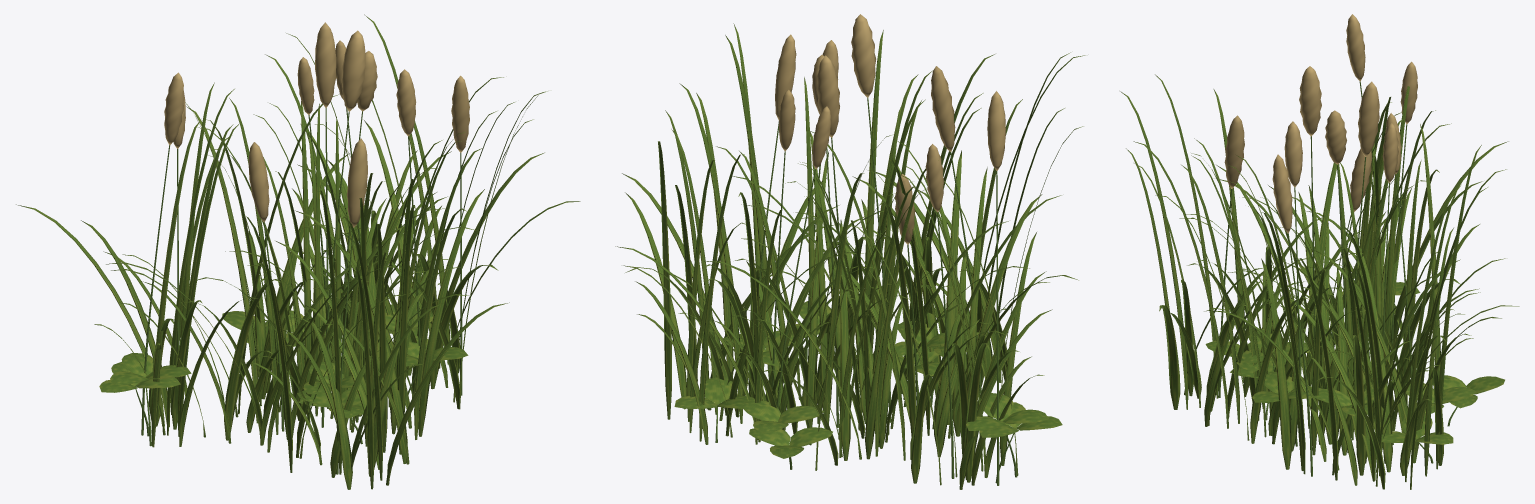
The model's file is meadowc.glb.
3 views of the same model, side by side, from view 1: azimuth 30°, elevation 25°; view 2: azimuth 150°, elevation 25°; view 3: azimuth 270°, elevation 25° (orthographic). The views are drawn at different scales.
Visible parts, largest first — view 1: PatchFoliage, PatchSeedHeads, PatchStems; view 2: PatchFoliage, PatchSeedHeads, PatchStems; view 3: PatchFoliage, PatchSeedHeads, PatchStems.
Boxes of the visible parts, bbox=[...] form: PatchFoliage: bbox=[16, 14, 580, 489]; PatchSeedHeads: bbox=[164, 22, 469, 227]; PatchStems: bbox=[135, 107, 462, 474]; PatchFoliage: bbox=[615, 23, 1085, 489]; PatchSeedHeads: bbox=[775, 14, 1005, 244]; PatchStems: bbox=[715, 97, 1017, 485]; PatchFoliage: bbox=[1120, 74, 1519, 489]; PatchSeedHeads: bbox=[1224, 14, 1417, 233]; PatchStems: bbox=[1218, 81, 1457, 476].
Bounding box in the file's own units: 1.18 × 0.95 × 0.9533.
3 materials, 1 textured.
